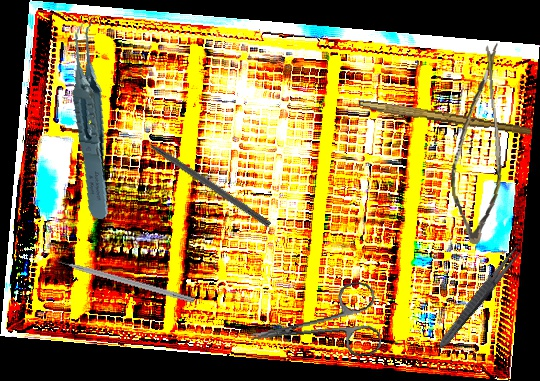Chopper: (49, 248, 198, 304)
Dressing Forceps: (434, 239, 527, 353)
Hook Surgical: (131, 128, 273, 229)
Iris Scissors: (245, 280, 383, 371)
Micro Scissor: (436, 39, 519, 246)
Scalpel Handle: (358, 99, 532, 137)
Tissue Forceps: (47, 13, 140, 221)
